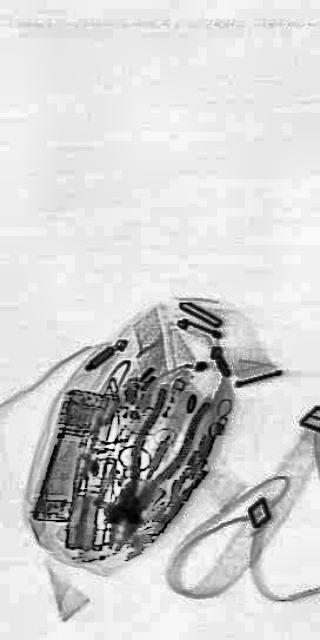Pliers: (94, 348, 210, 574)
